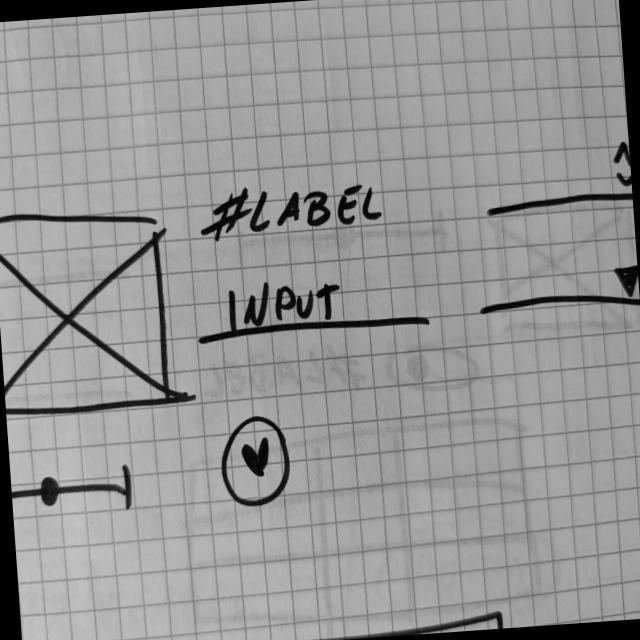icon-button: (214, 413, 296, 514)
image: (1, 200, 177, 422)
input: (194, 268, 434, 350)
label: (199, 175, 388, 249)
number-input: (480, 140, 635, 220)
select: (475, 258, 640, 320)
slider: (11, 459, 137, 532)
